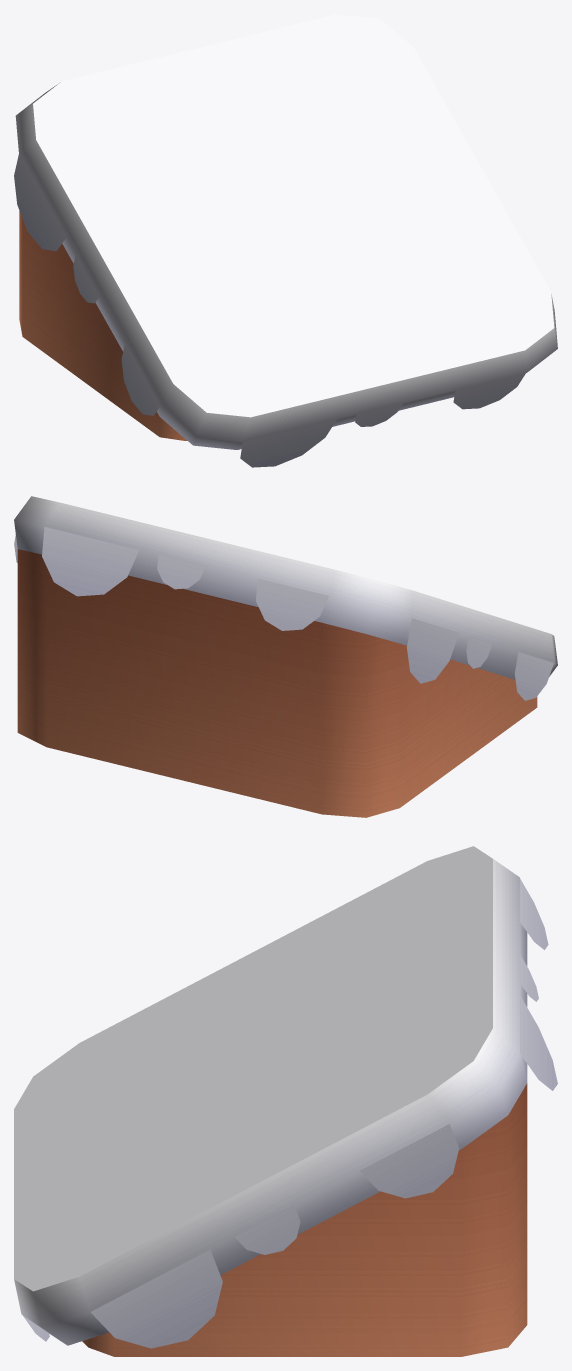
The model's file is block-snow-overhang-large-slope-steep.glb.
The picture shows the model from 3 angles, top to bottom: view 1: azimuth 30°, elevation 25°; view 2: azimuth 150°, elevation 25°; view 3: azimuth 270°, elevation 25°; orthographic projection. The views are drawn at different scales.
Parts seen in each view (by area): view 1: block-snow-overhang-large-slope-steep; view 2: block-snow-overhang-large-slope-steep; view 3: block-snow-overhang-large-slope-steep.
Part boxes in pixels (bbox=[...]): block-snow-overhang-large-slope-steep: bbox=[14, 14, 557, 467]; block-snow-overhang-large-slope-steep: bbox=[14, 496, 557, 817]; block-snow-overhang-large-slope-steep: bbox=[14, 846, 557, 1356].
Bounding box in the file's own units: 2.08 × 1.37 × 1.97.
1 material, 1 textured.
